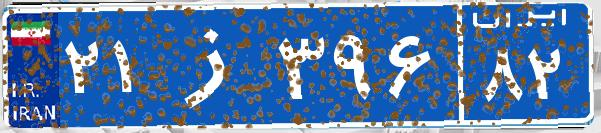1: (110, 28, 158, 105)
2: (57, 26, 110, 107), (525, 38, 570, 115)
3: (273, 28, 330, 110)
6: (385, 28, 445, 110)
8: (475, 38, 525, 113)
9: (330, 28, 385, 110)
ز: (158, 15, 273, 115)
